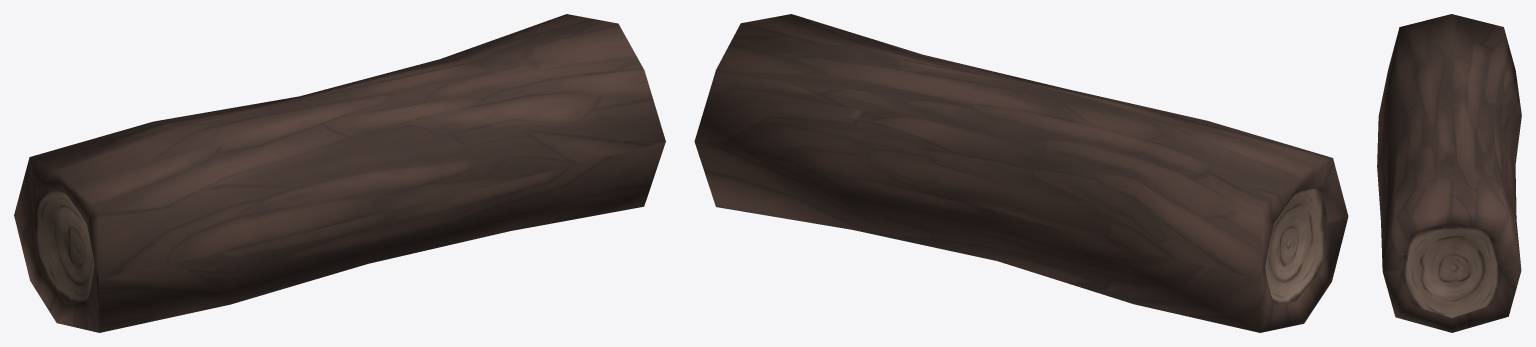
The model's file is Tree Log.fbx.
The picture shows the model from 3 angles, left to right: view 1: azimuth 30°, elevation 25°; view 2: azimuth 150°, elevation 25°; view 3: azimuth 270°, elevation 25°; orthographic projection. The views are drawn at different scales.
Parts seen in each view (by area): view 1: Log_01_LOD0; view 2: Log_01_LOD0; view 3: Log_01_LOD0.
Part boxes in pixels (box(x1,y1,x2,y2)): Log_01_LOD0: box(14, 14, 665, 332); Log_01_LOD0: box(694, 14, 1348, 332); Log_01_LOD0: box(1377, 14, 1521, 332).
Size of what is drawn, in the model's own units: 257 by 76.08 by 77.35.
